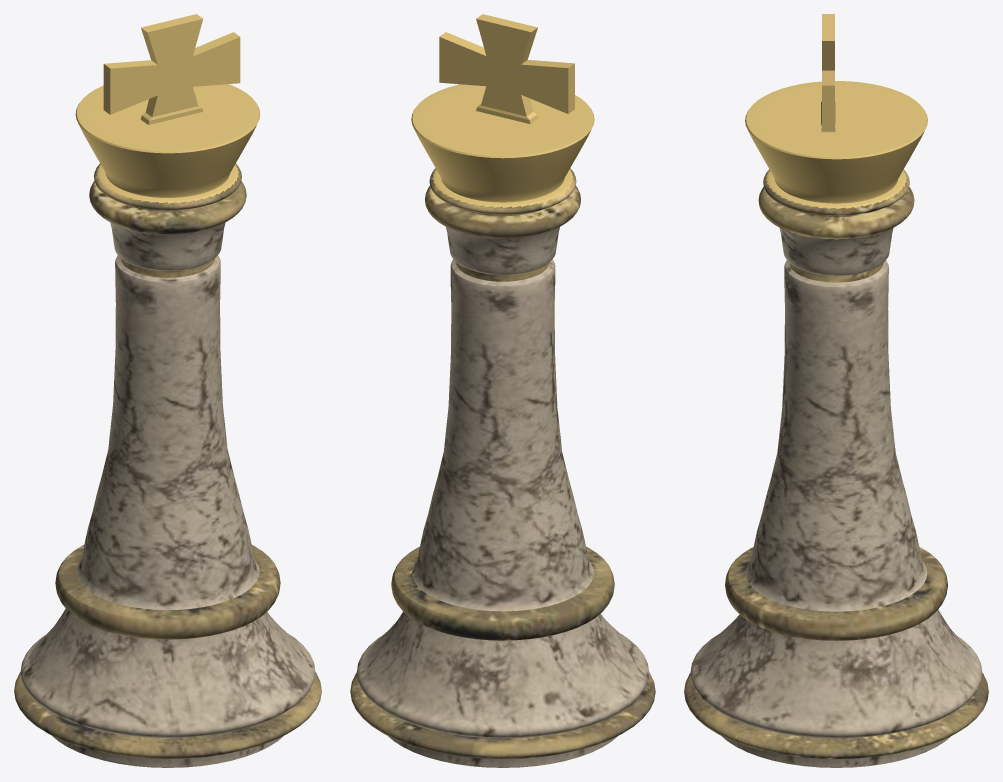
The picture shows the model from 3 angles, left to right: view 1: azimuth 30°, elevation 25°; view 2: azimuth 150°, elevation 25°; view 3: azimuth 270°, elevation 25°; orthographic projection.
Parts seen in each view (by area): view 1: x; view 2: x; view 3: x.
Boxes of the visible parts, left/top/right/bottom form: x: left=14, top=14, right=321, bottom=767; x: left=350, top=14, right=655, bottom=767; x: left=684, top=14, right=988, bottom=767.
Bounding box in the file's own units: 0.3612 × 0.9 × 0.3612.
Materials: 2 (1 with a texture image).
